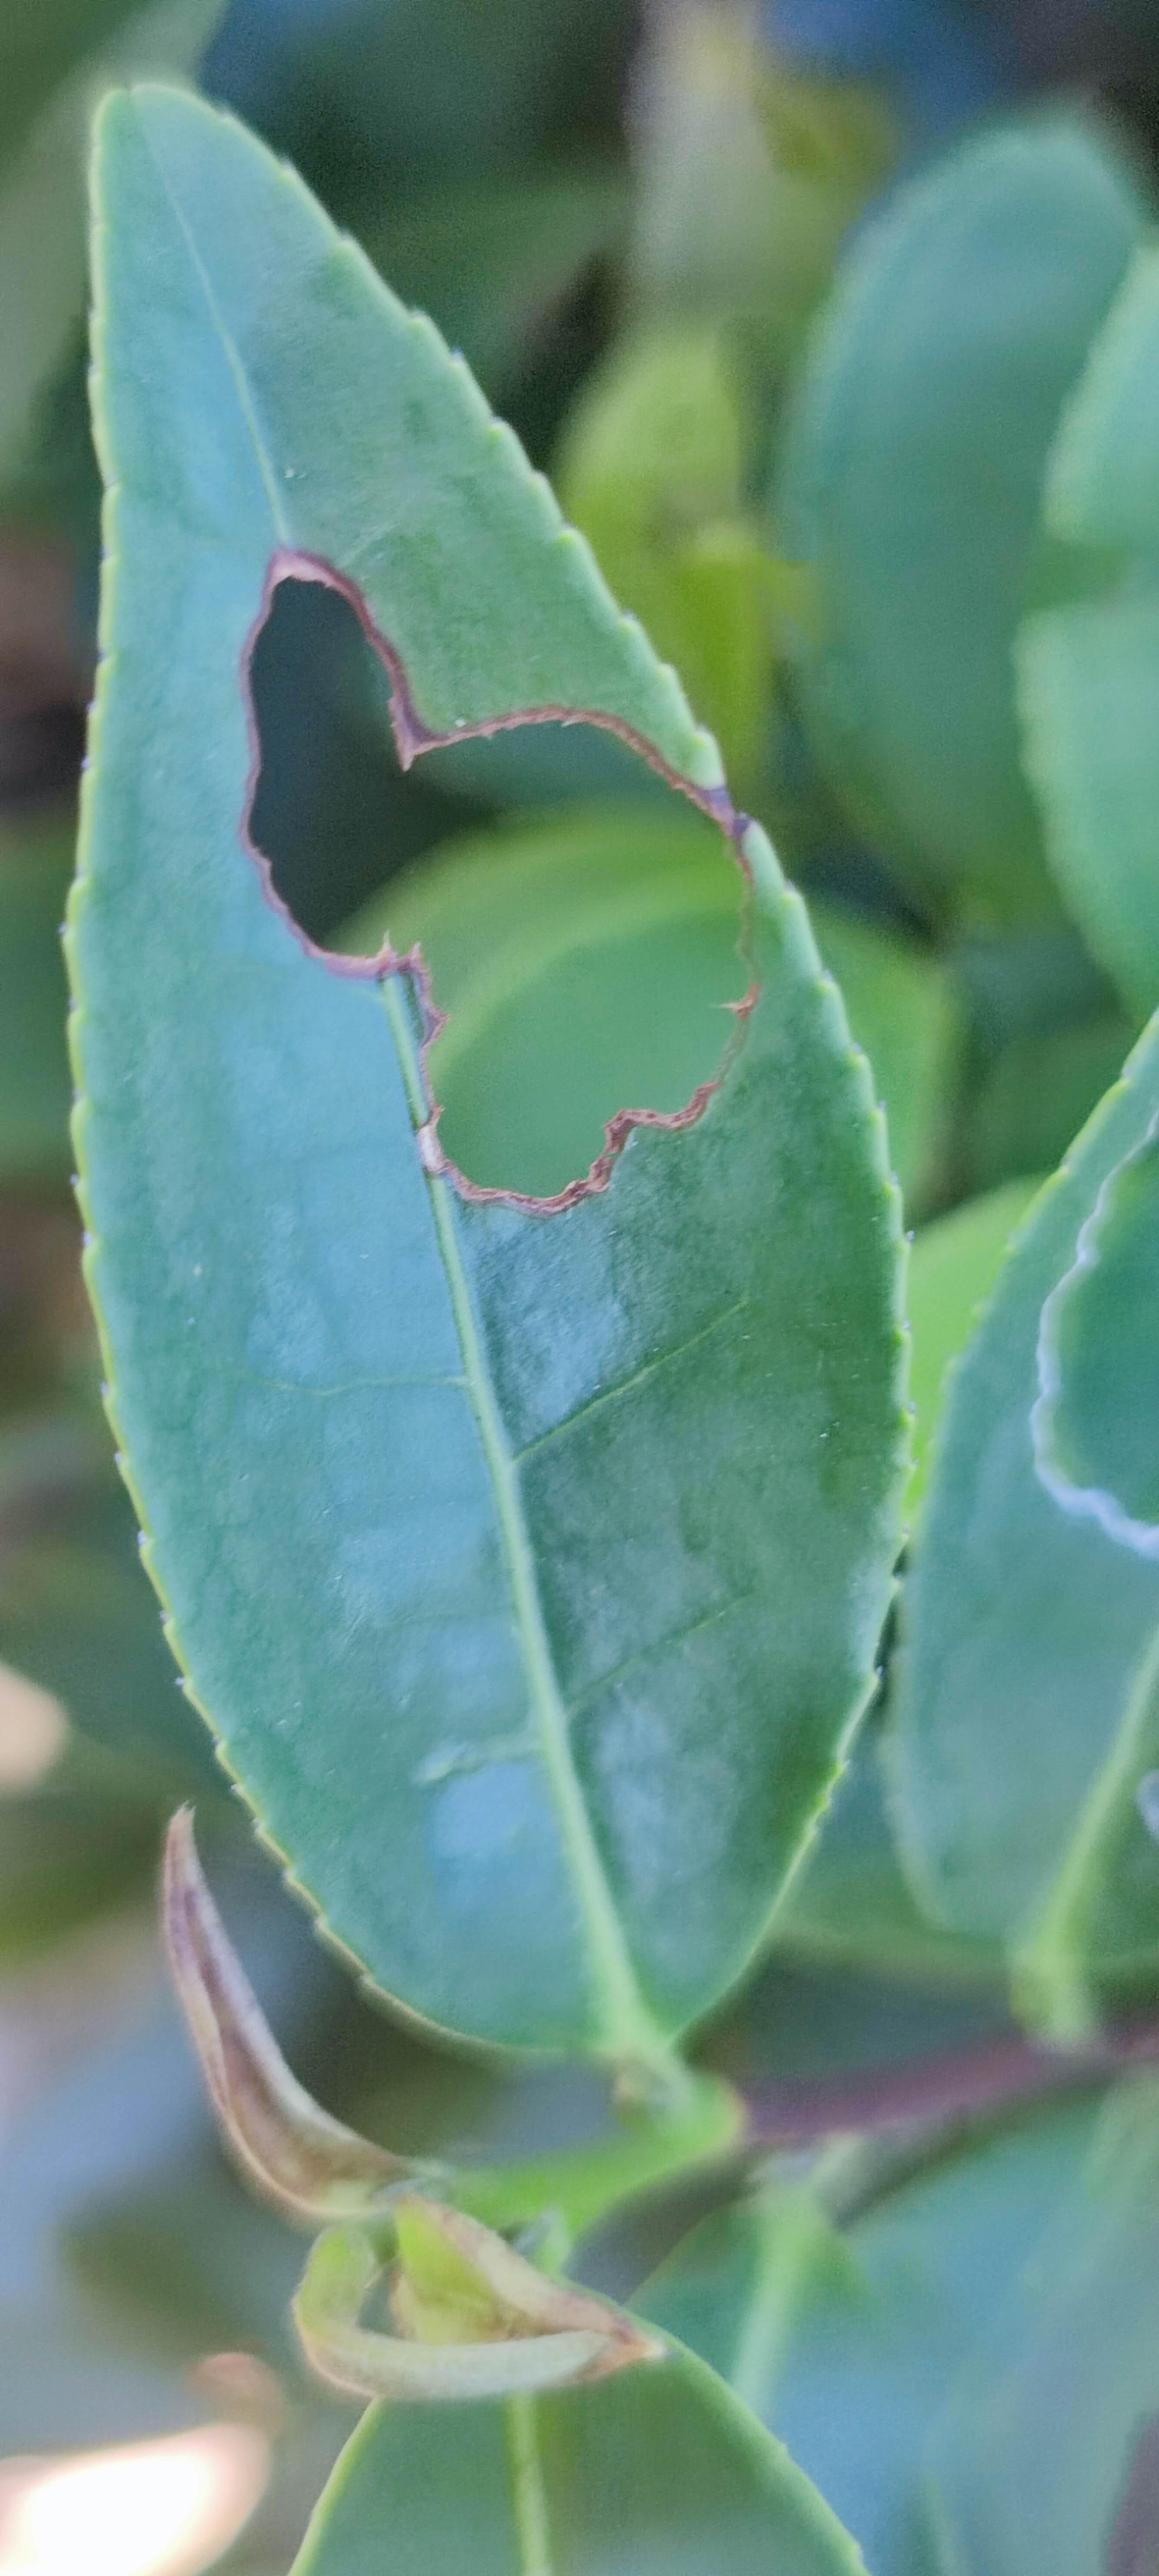chihuo_high: (57, 85, 924, 2070)
